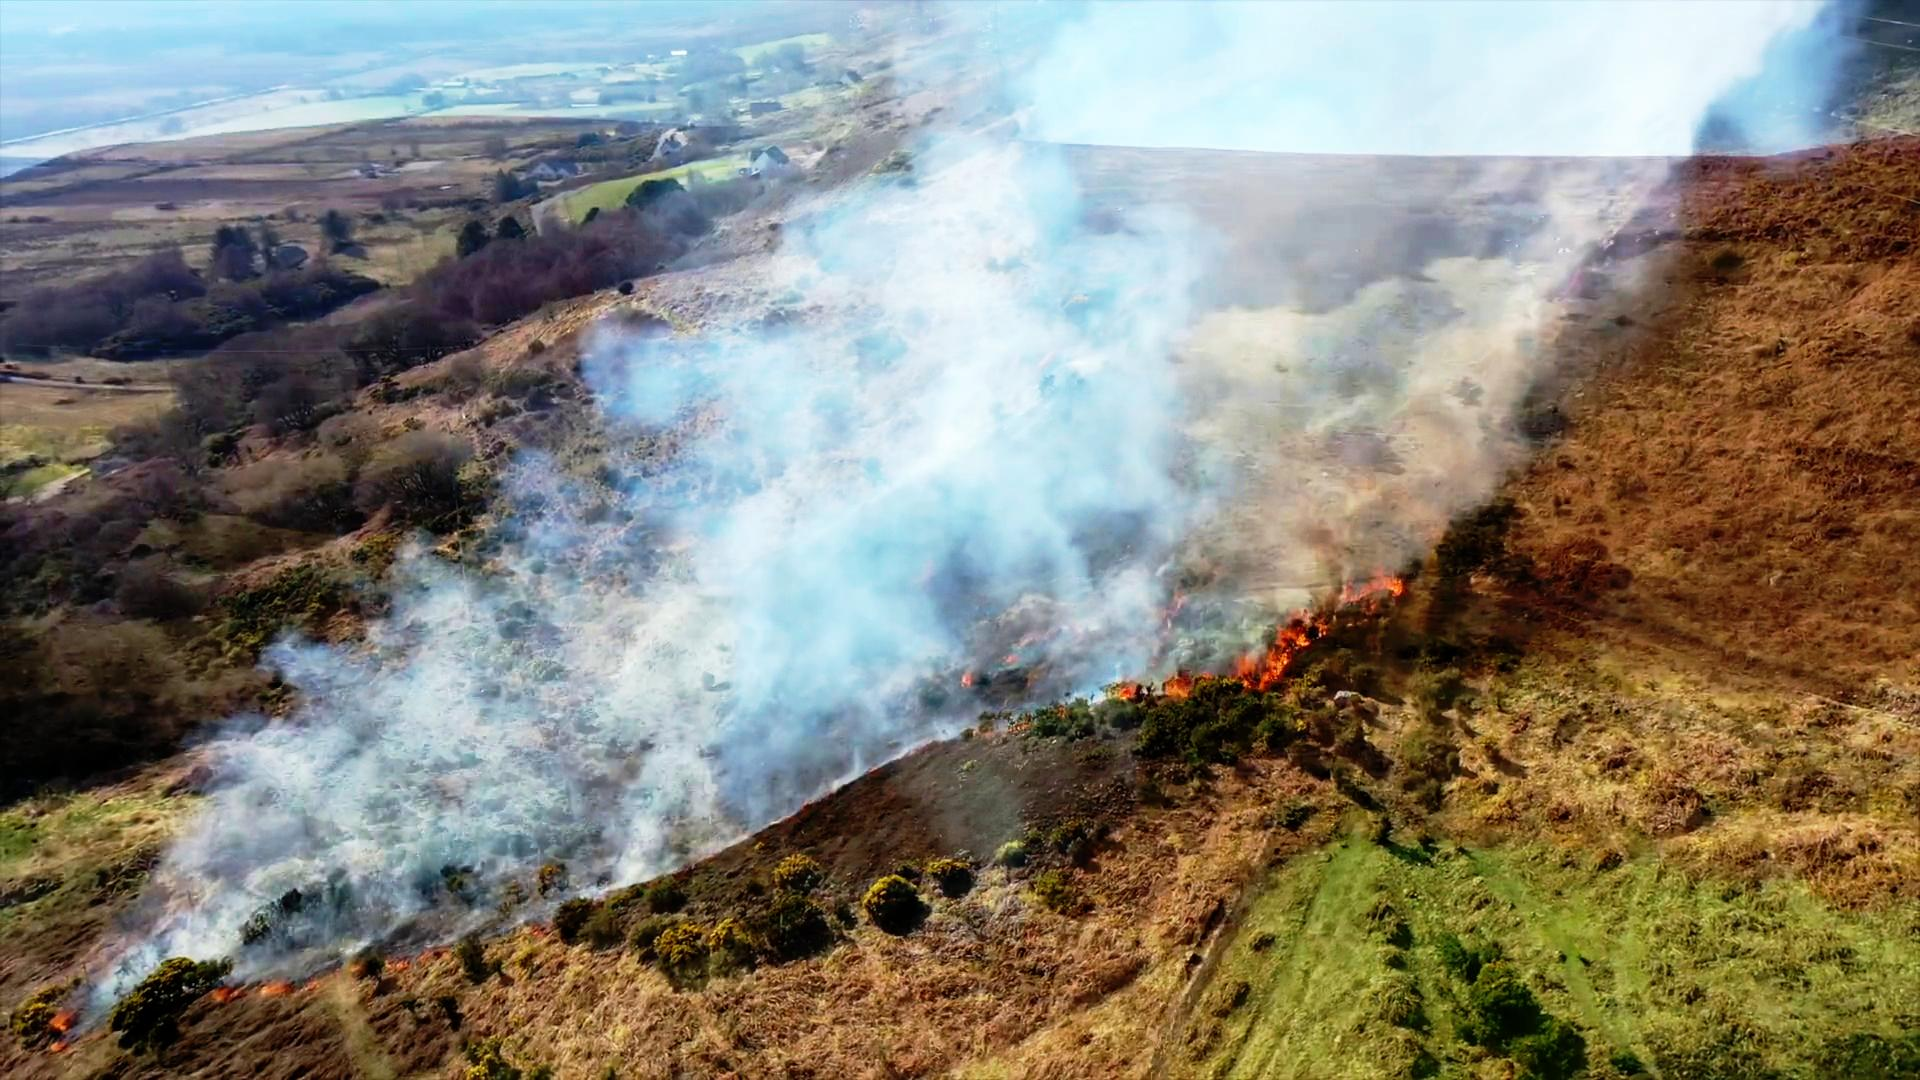smoke: (770, 393, 1101, 708)
